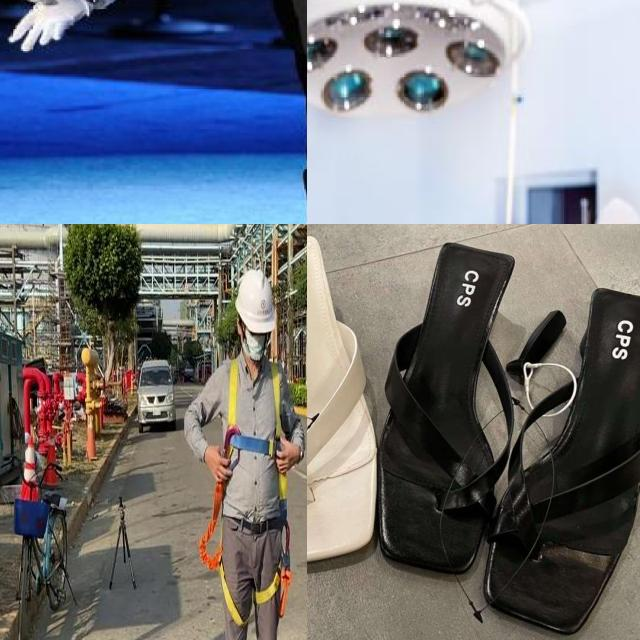Harness: (199, 483, 292, 628), (225, 358, 283, 458)
Sandals: (368, 224, 640, 640), (307, 229, 388, 612)
hand_glove: (0, 0, 95, 54)
person: (0, 0, 307, 224), (307, 63, 521, 224)
